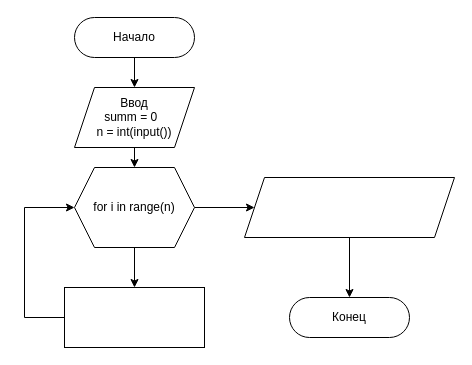
This 472x365 diagram has some shape labels left out. Each missing label, with the box of its shape:
print(f"Сумма ряда = {summ}"): (244, 176, 454, 238)
summ += 1 / pow(-2, i): (64, 286, 204, 348)
